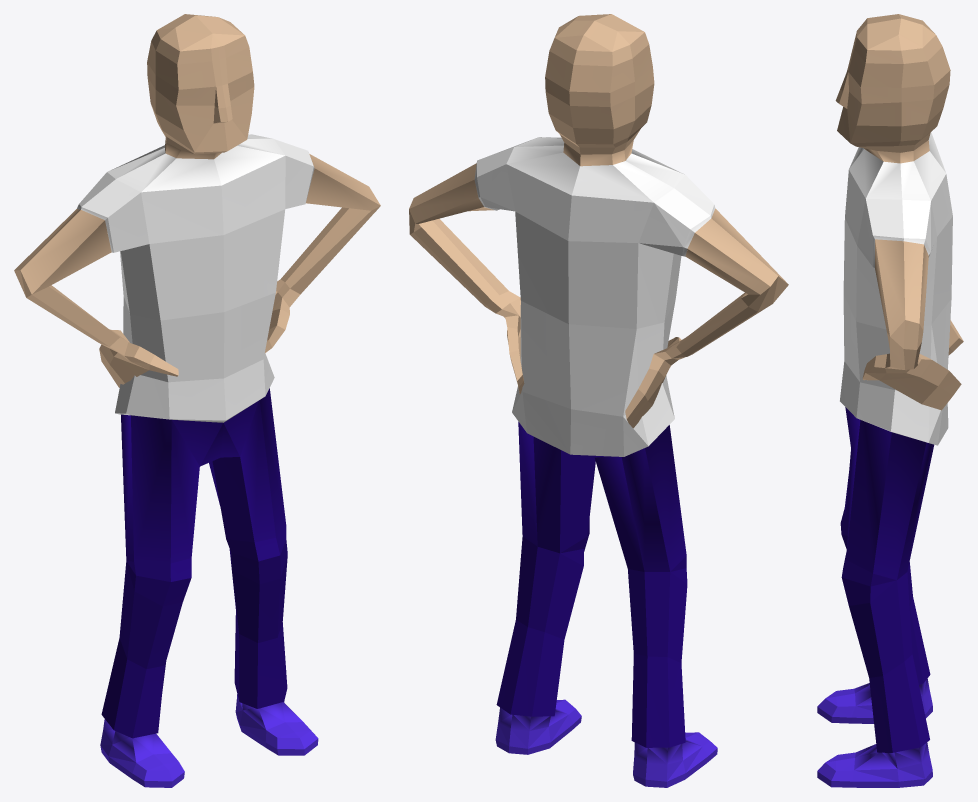
File: man.glb
3 views of the same model, side by side, from view 1: azimuth 30°, elevation 25°; view 2: azimuth 150°, elevation 25°; view 3: azimuth 270°, elevation 25° (orthographic).
Visible parts, largest first — view 1: shirt, pants, body, shoes; view 2: shirt, pants, body, shoes; view 3: body, pants, shirt, shoes.
Boxes of the visible parts, box(x1,y1,x2,y2) form: shirt: box(77, 134, 314, 422); pants: box(101, 388, 287, 738); body: box(14, 14, 380, 387); shoes: box(100, 694, 318, 787); shirt: box(474, 137, 715, 456); pants: box(496, 421, 687, 747); body: box(409, 14, 788, 428); shoes: box(495, 699, 717, 787); body: box(835, 14, 963, 410); pants: box(840, 407, 934, 752); shirt: box(840, 132, 952, 445); shoes: box(817, 678, 932, 787).
Bounding box in the file's own units: 0.755 × 1.46 × 0.2674.
